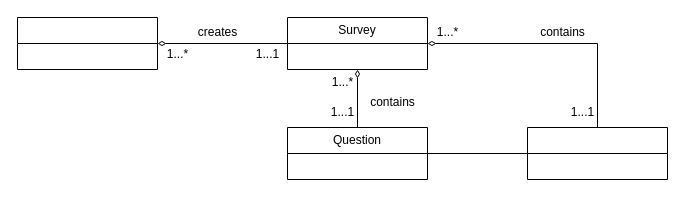
The diagram is 685 pixels wide and 197 high, and some of its shapes have lost their labels. The shapes that lost their labels are listed below. From the top down, each one's centre as x and y in pixels, then its label:
At point 87,43: "Surveyor".
At point 597,153: "Response".
